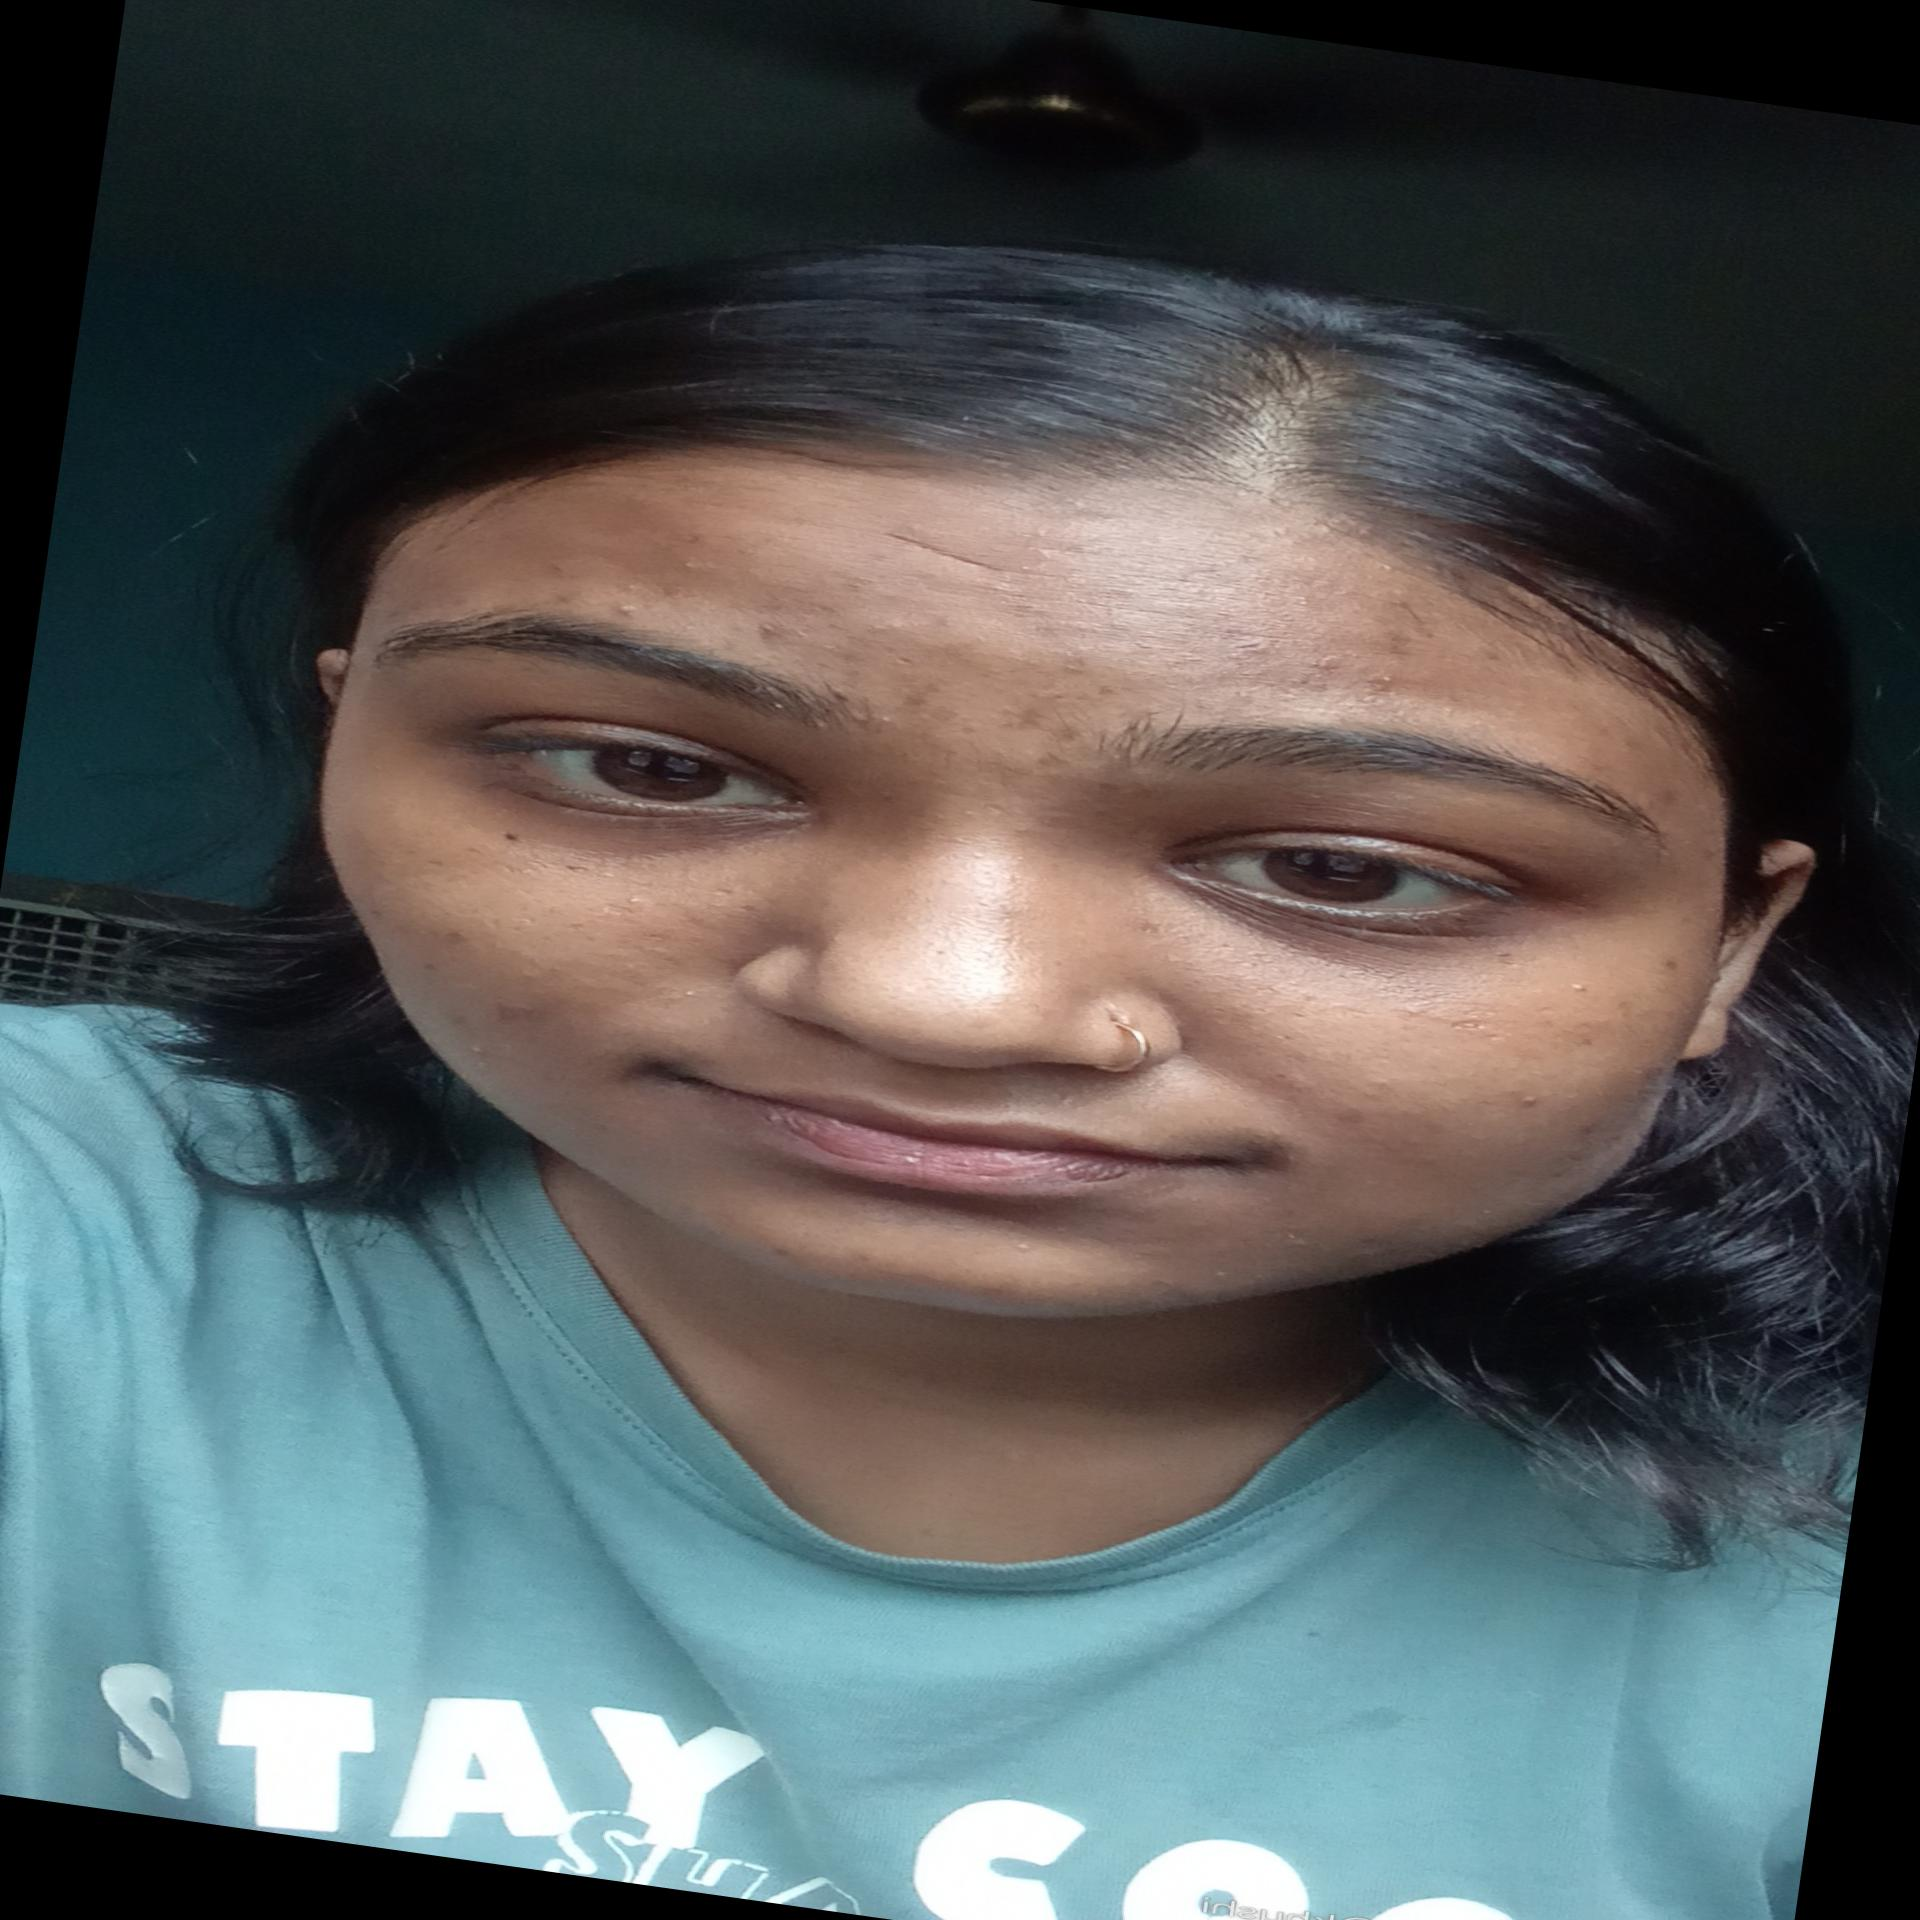Acne: (433, 920, 489, 956), (1510, 1092, 1575, 1122), (1639, 782, 1697, 814), (744, 617, 807, 645), (1051, 652, 1104, 686), (1639, 951, 1695, 981), (668, 552, 714, 585), (1375, 624, 1417, 659), (1356, 666, 1407, 695), (983, 1276, 1044, 1298), (603, 598, 645, 624), (615, 577, 647, 598)
Wrinkles: (986, 582, 1312, 649), (974, 550, 1240, 608), (976, 531, 1225, 578)
